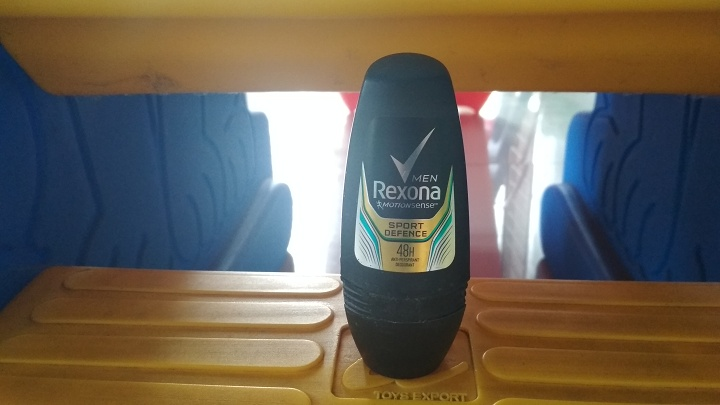rexona: (336, 51, 469, 378)
